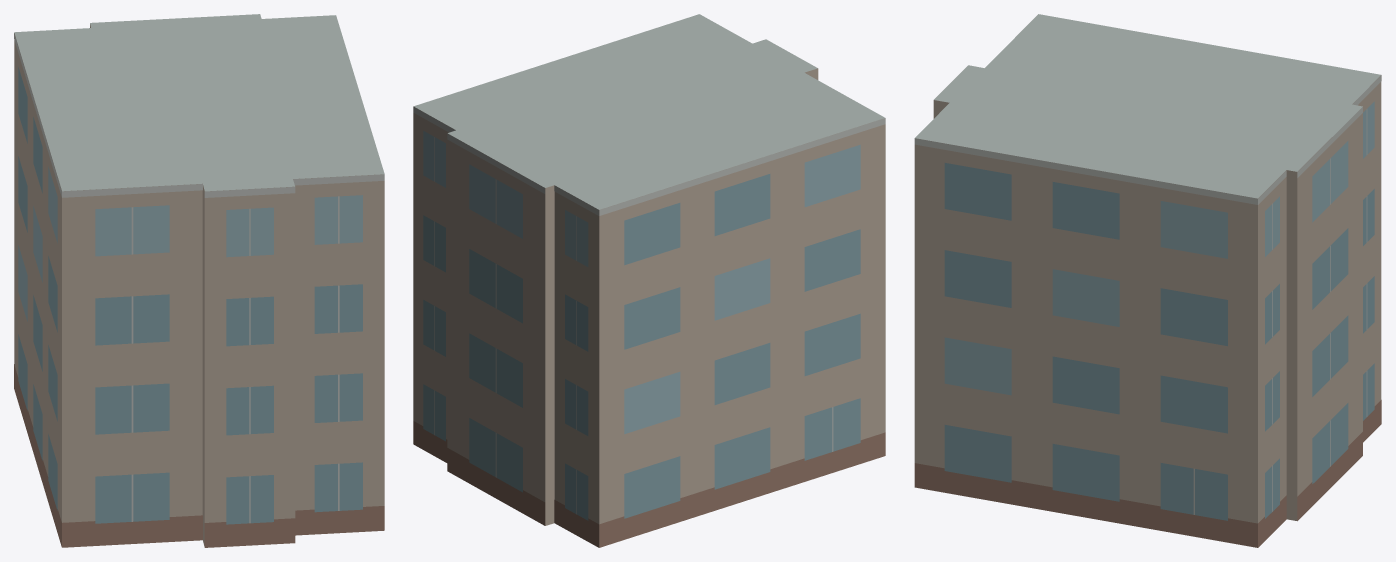
Rendered from survey-upis-33018123.glb.
The picture shows the model from 3 angles, left to right: view 1: azimuth 30°, elevation 25°; view 2: azimuth 150°, elevation 25°; view 3: azimuth 270°, elevation 25°; orthographic projection. The views are drawn at different scales.
Visible parts, largest first — view 1: survey-upis-33018123.tmp; view 2: survey-upis-33018123.tmp; view 3: survey-upis-33018123.tmp.
Boxes of the visible parts, box(x1,y1,x2,y2) form: survey-upis-33018123.tmp: box(14, 14, 384, 547); survey-upis-33018123.tmp: box(413, 14, 885, 547); survey-upis-33018123.tmp: box(914, 14, 1381, 547).
Size of the model in its own units: 14.97 by 13.2 by 16.
